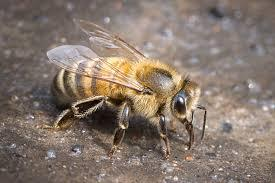Apis-mellifera-scutellata: (43, 10, 219, 166)
